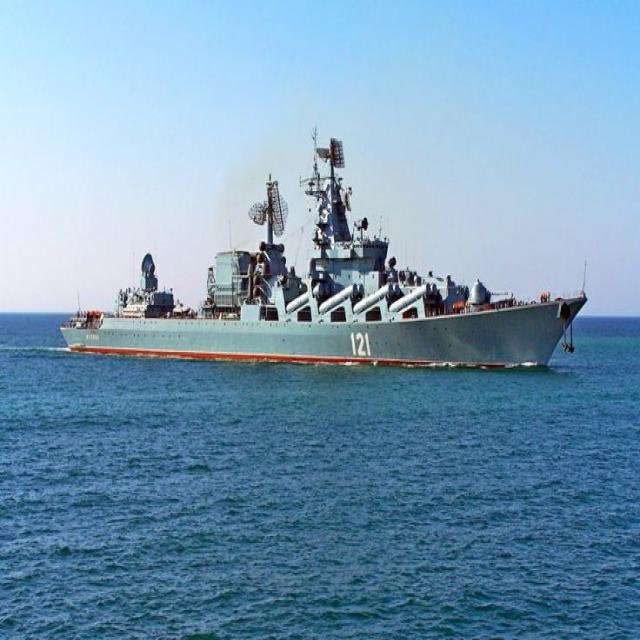navalvessels: (59, 109, 590, 378)
